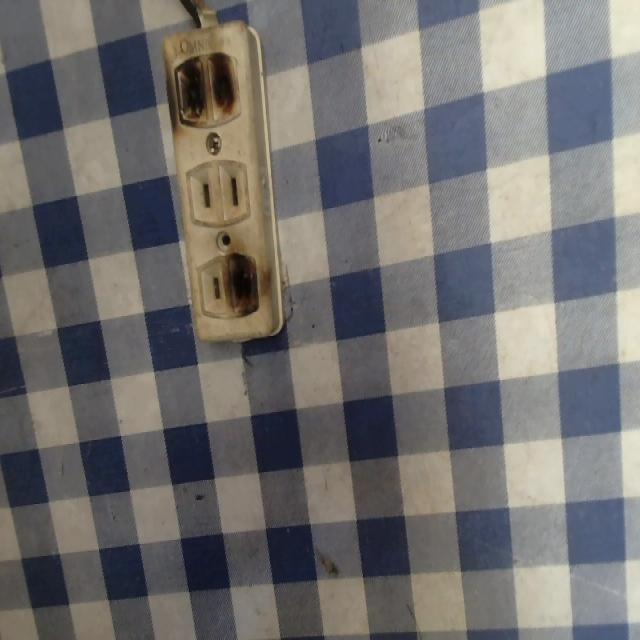-: (171, 49, 244, 132), (219, 252, 270, 320)
